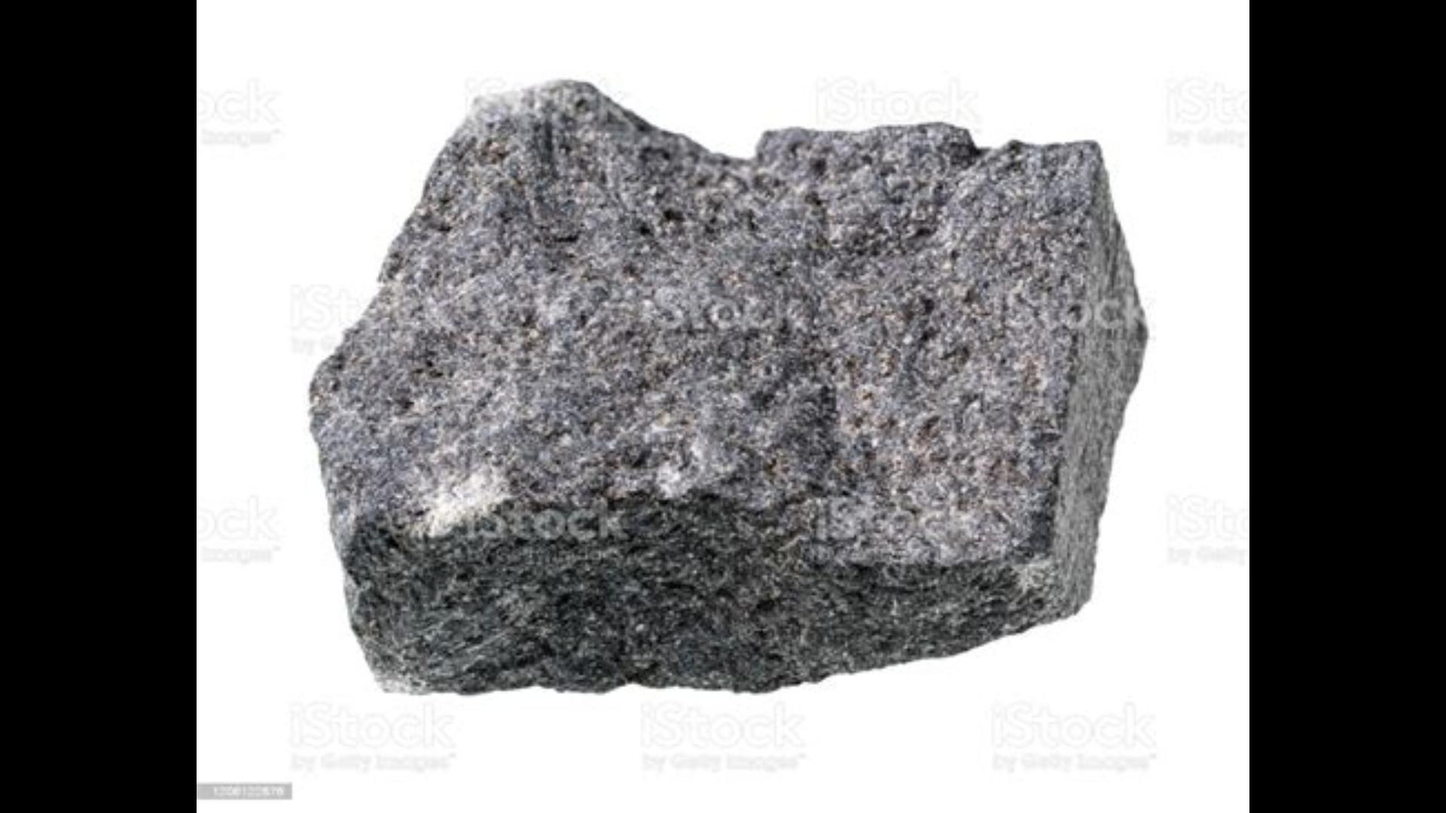rock: (310, 82, 1143, 686)
